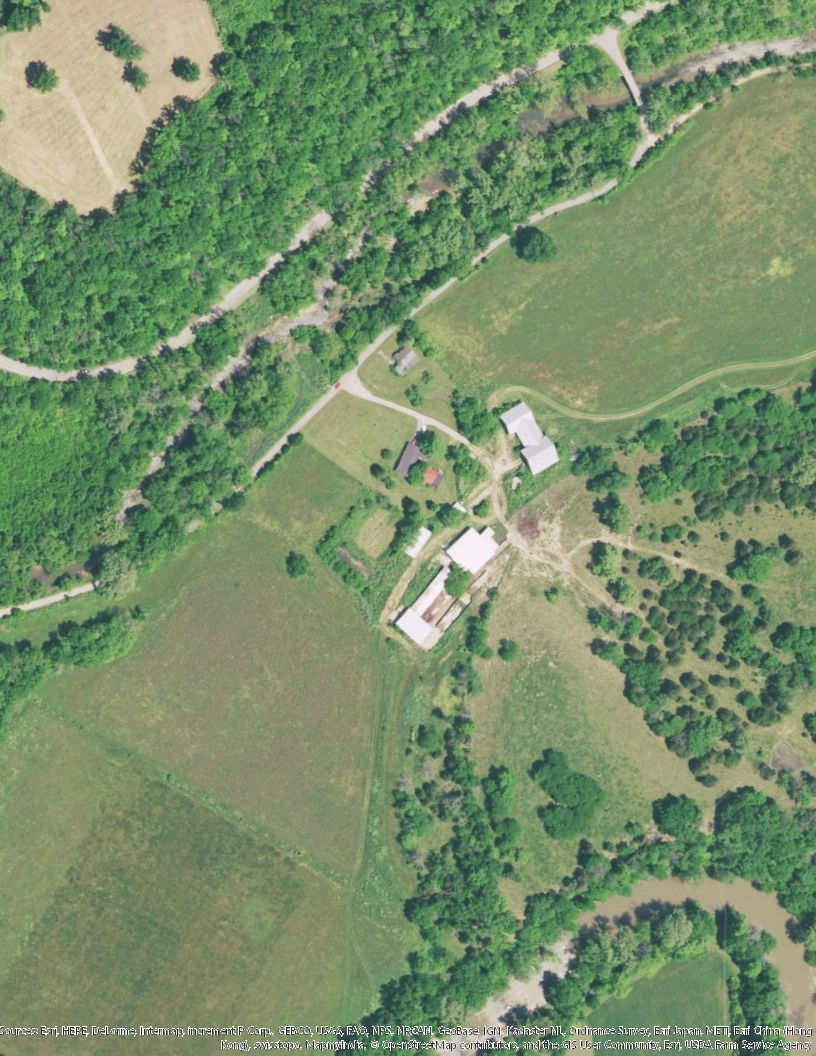cafo: (392, 519, 500, 652)
